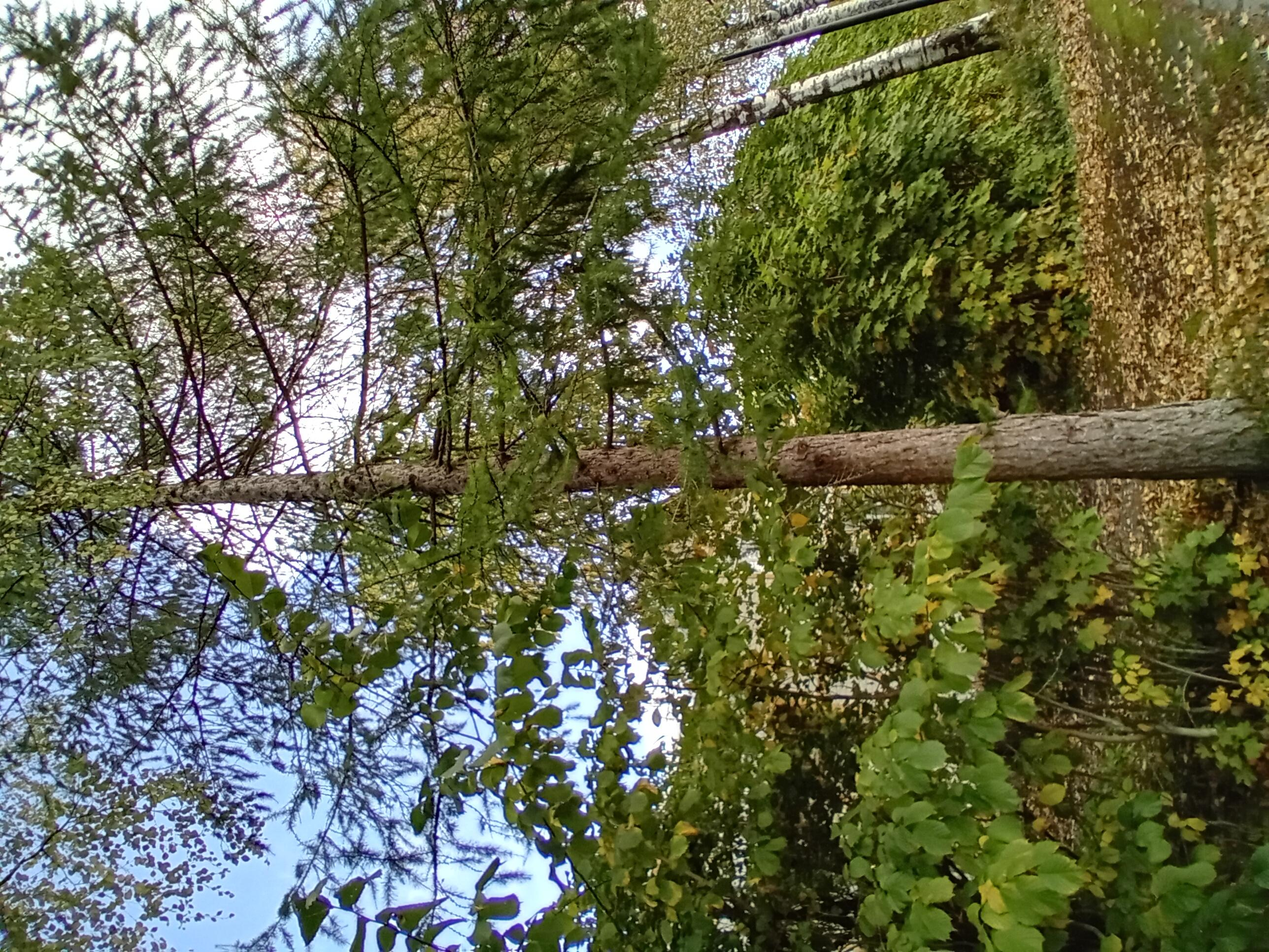Spruce: (376, 1, 1067, 945)
